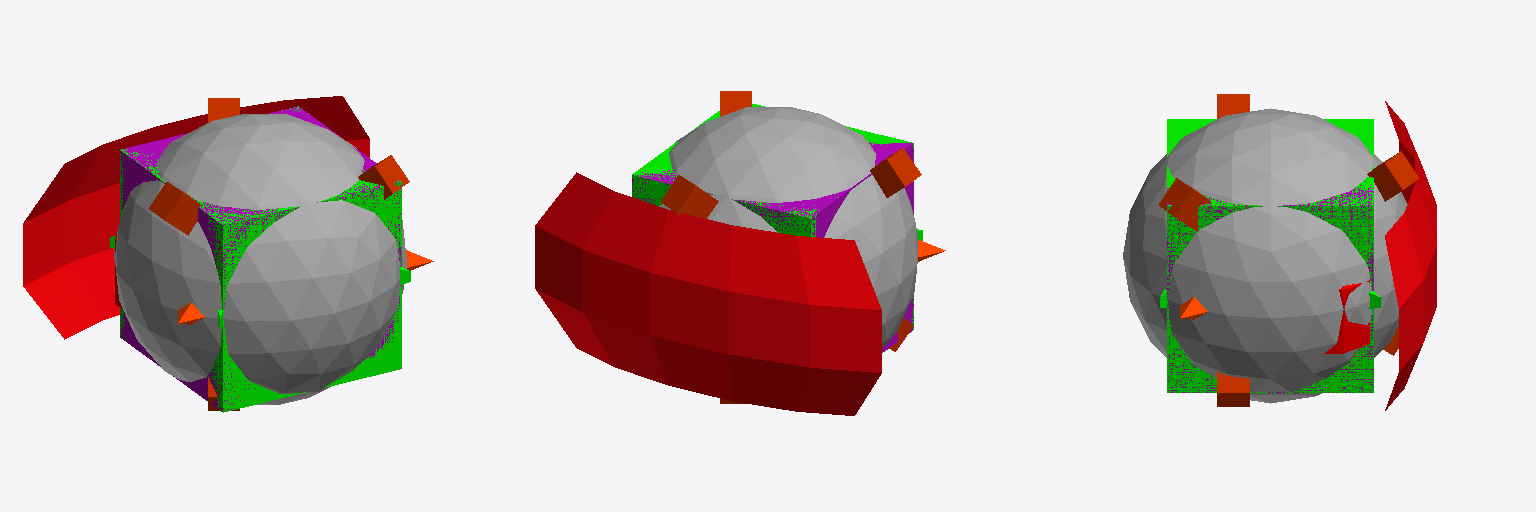
File: monster.obj
3 views of the same model, side by side, from view 1: azimuth 30°, elevation 25°; view 2: azimuth 150°, elevation 25°; view 3: azimuth 270°, elevation 25° (orthographic).
Visible parts, largest first — view 1: wormhole, shield, largeDiamond, largeCube, largeTriangle, smallTriangle; view 2: shield, wormhole, largeTriangle, largeCube, largeDiamond; view 3: wormhole, largeDiamond, shield, largeTriangle, largeCube, shielder.
Part boxes in pixels (x1,y1,x2,y2): wormhole: (114,114,406,404); shield: (23,96,369,339); largeDiamond: (120,106,401,412); largeCube: (120,106,401,411); largeTriangle: (149,98,409,410); smallTriangle: (178,250,433,324); shield: (535,172,881,415); wormhole: (659,107,917,348); largeTriangle: (661,91,921,403); largeCube: (632,142,913,352); largeDiamond: (632,104,913,329); wormhole: (1123,108,1407,403); largeDiamond: (1167,119,1373,392); shield: (1385,101,1436,410); largeTriangle: (1159,94,1418,406); largeCube: (1167,181,1373,392); shielder: (1324,280,1369,353).
Bounding box in the file's own units: 2.71 × 2 × 2.13.